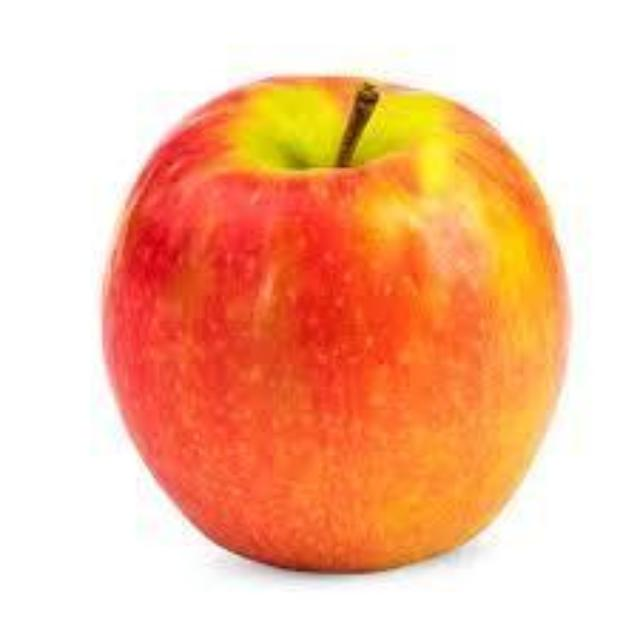apple: (102, 77, 566, 569)
